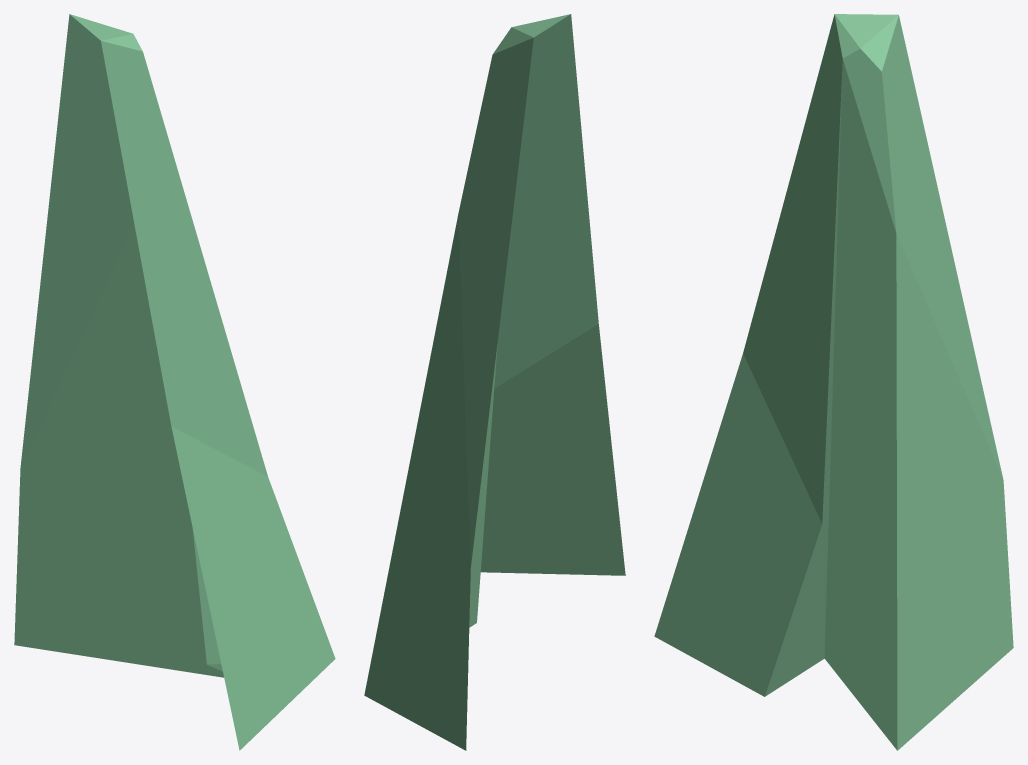
The model's file is Garage_Towel2.fbx.
3 renders of one model, left to right at view 1: azimuth 30°, elevation 25°; view 2: azimuth 150°, elevation 25°; view 3: azimuth 270°, elevation 25°, orthographic. The views are drawn at different scales.
Visible parts, largest first — view 1: Garage_Towel2; view 2: Garage_Towel2; view 3: Garage_Towel2.
Part boxes in pixels (x1=…): Garage_Towel2: x1=14, y1=14, x2=335, y2=750; Garage_Towel2: x1=364, y1=14, x2=625, y2=750; Garage_Towel2: x1=654, y1=14, x2=1013, y2=750.
Bounding box in the file's own units: 21.36 × 73.31 × 36.27.
